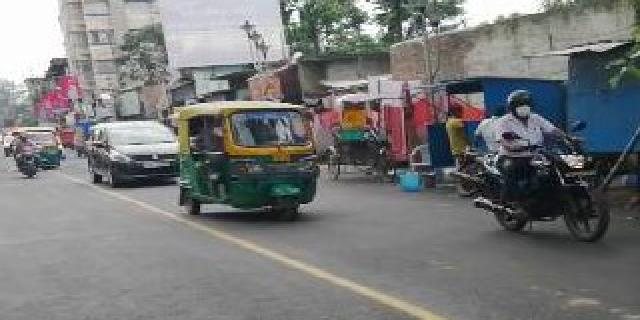Autorickshaw: (172, 89, 324, 222)
Car: (83, 110, 177, 201)
Motorbike: (469, 85, 615, 249)
